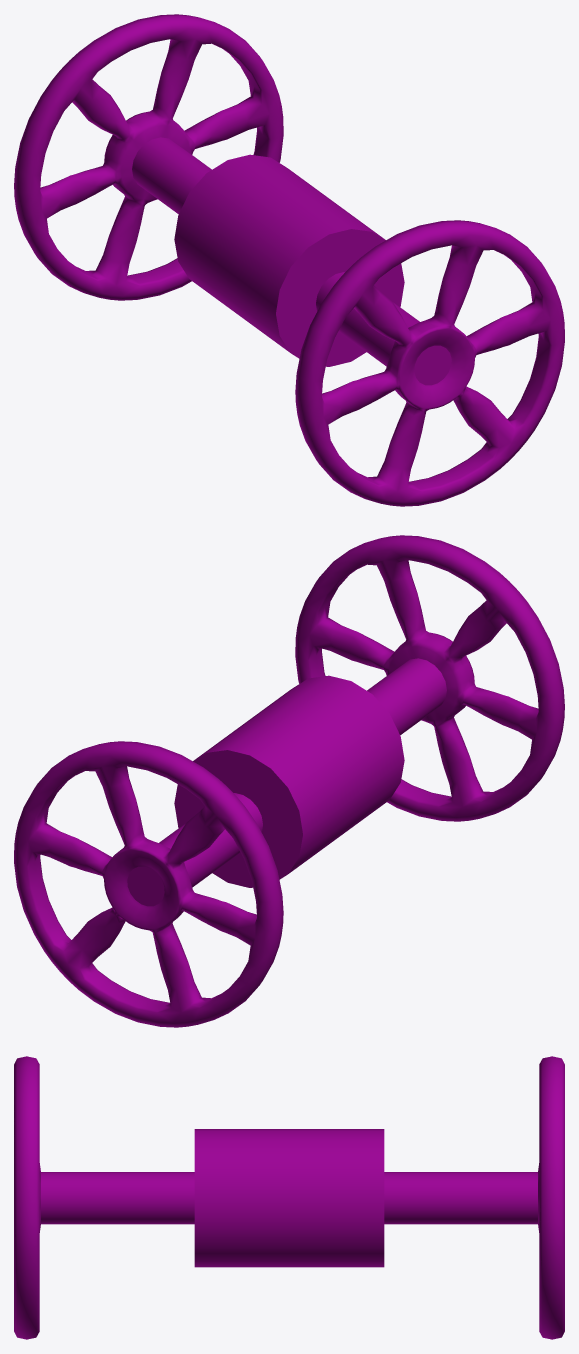
File: Weapon_wheel_001.FBX
3 renders of one model, top to bottom at view 1: azimuth 30°, elevation 25°; view 2: azimuth 150°, elevation 25°; view 3: azimuth 270°, elevation 25°, orthographic. The views are drawn at different scales.
Visible parts, largest first — view 1: Weapon_wheel_001; view 2: Weapon_wheel_001; view 3: Weapon_wheel_001.
Part boxes in pixels (x1,y1,x2,y2): Weapon_wheel_001: (14,14,564,506); Weapon_wheel_001: (14,535,564,1027); Weapon_wheel_001: (14,1056,564,1339).
Size of the model in its own units: 154 by 154 by 299.
